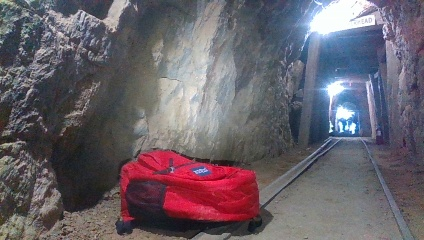backpack: (113, 147, 263, 237)
